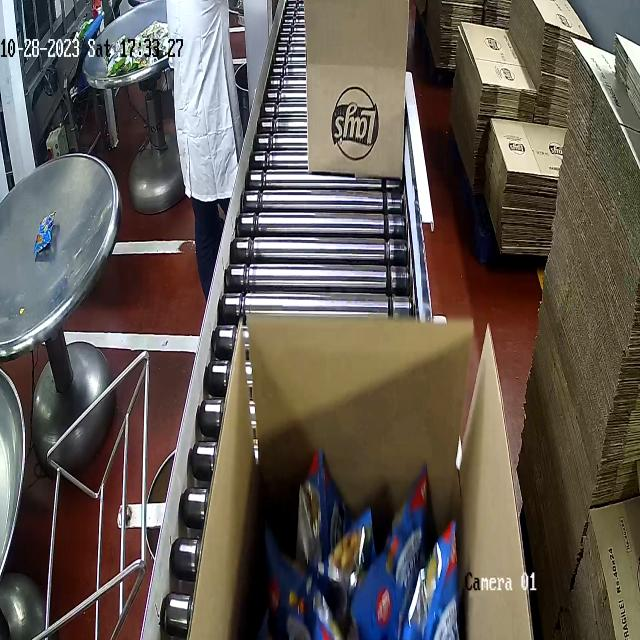PAPRIKA: (294, 440, 441, 640)
